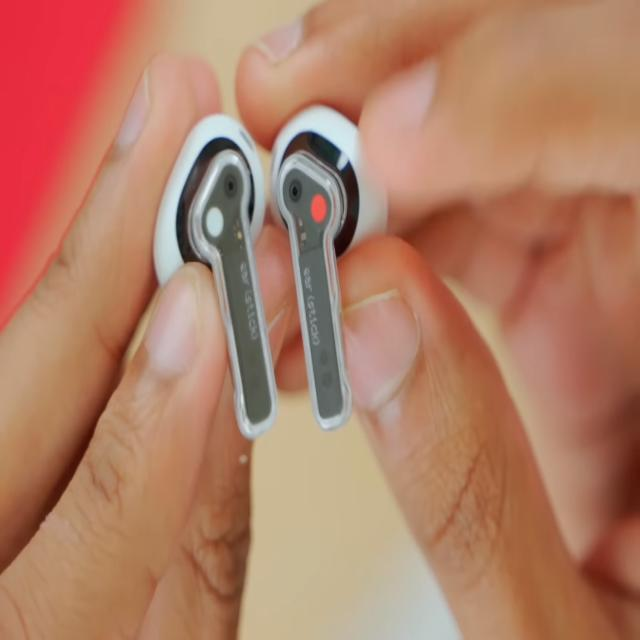airpods: (151, 107, 281, 440), (269, 102, 390, 434)
